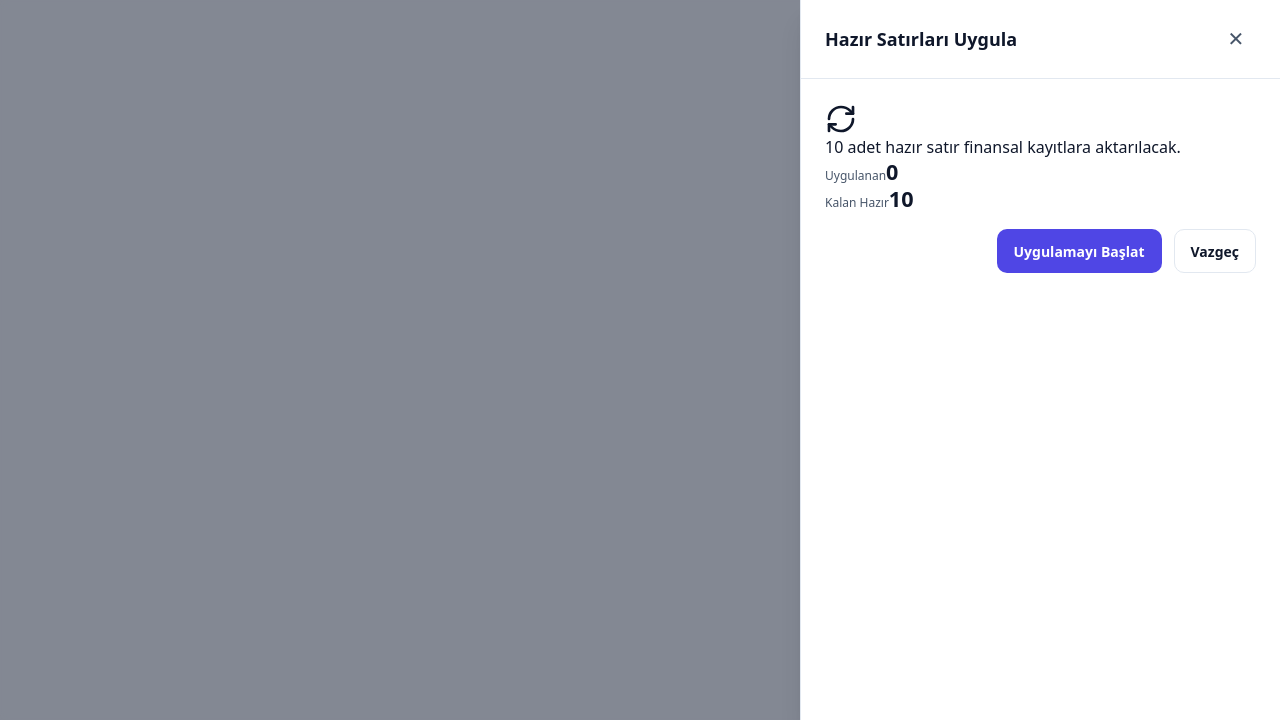
F9 — CSV Imports & Resolution Unit & Integration Suite › chunk apply stops if zero progress (appliedCount === 0 && hasMore === true)
This screenshot has width=1280, height=720.
Step 1. Click the button with test id "btn-start-apply" → click(1079, 251), box [996,229,1162,273]
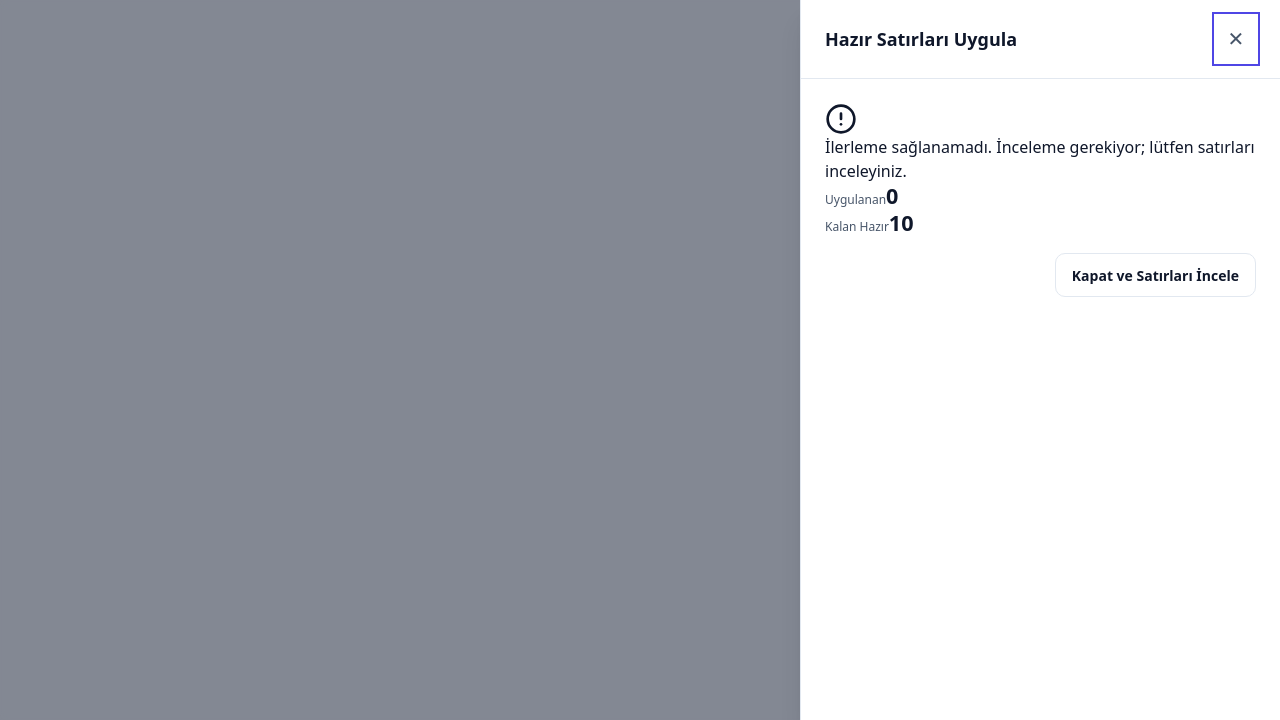
Expected: the text "İlerleme sağlanamadı" is shown, [825,136,1255,182]
